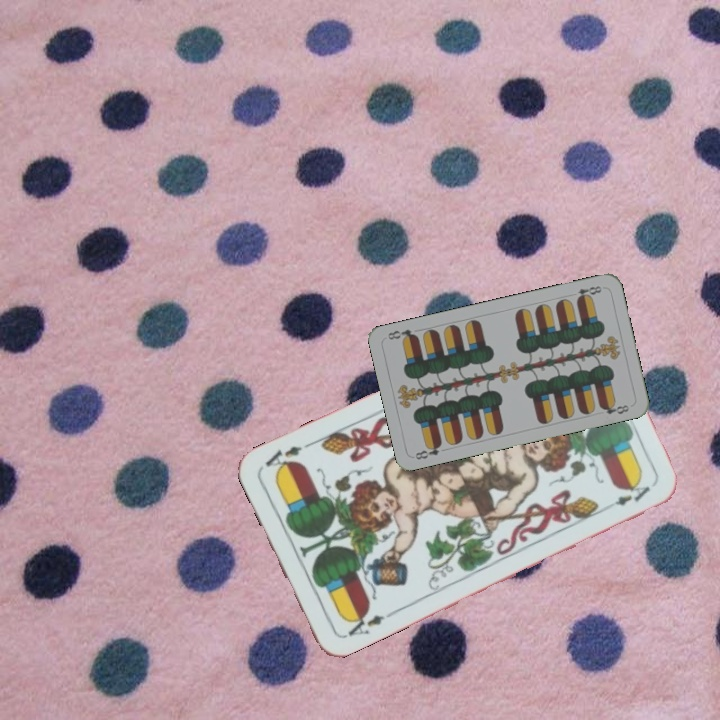E8: (411, 439, 445, 462), (572, 282, 604, 303)
EA: (339, 607, 395, 641)
